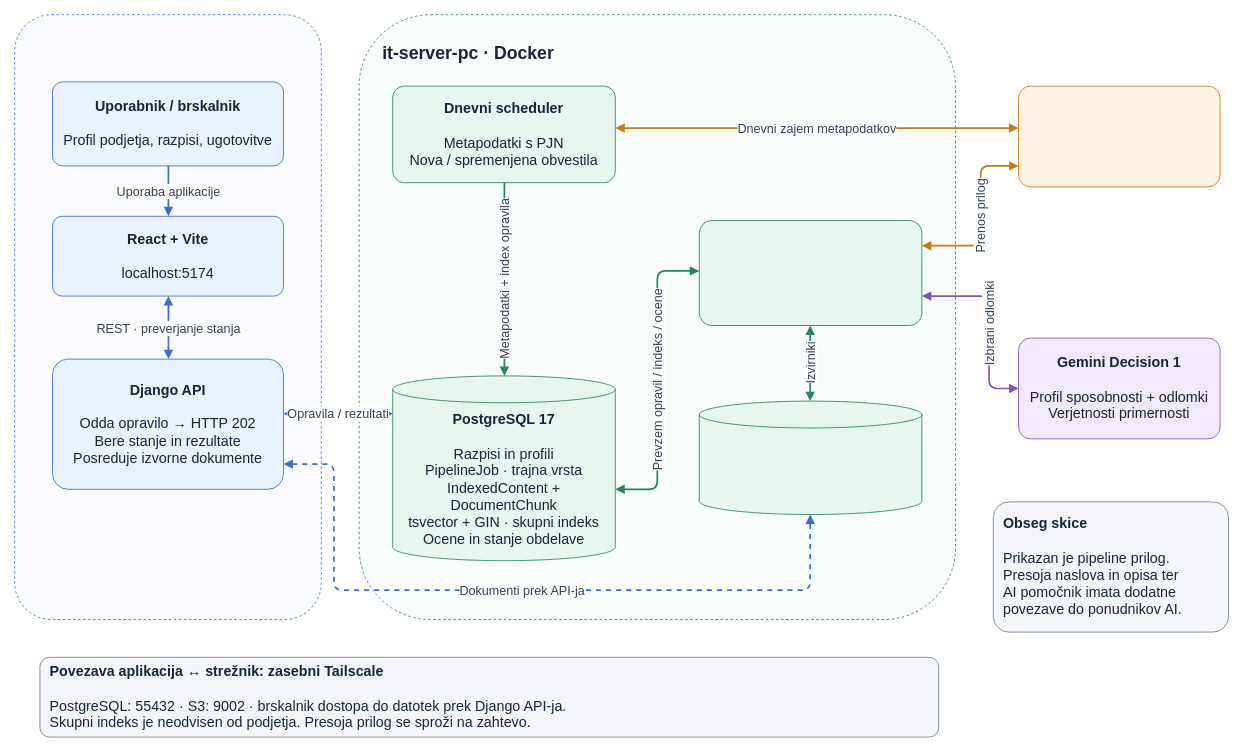
Some shapes in this 1243 by 752 pixel diagram are drawn without their labels. The shapes that lost their labels are listed below. From the top down, each one's box as (x1, y1, x2, y2) in pixels, then its label:
(1018, 85, 1220, 187): Portal javnih naročil Javni metapodatki PDF, Office, ZIP priloge
(698, 220, 922, 326): Pipeline delavec Prenos in izluščenje besedila Indeksiranje / presoja odlomkov
(14, 14, 321, 620): LOKALNA APLIKACIJA
(698, 400, 922, 514): Zasebna S3 shramba Versity Gateway Izvirniki po SHA-256 Trajni disk strežnika
